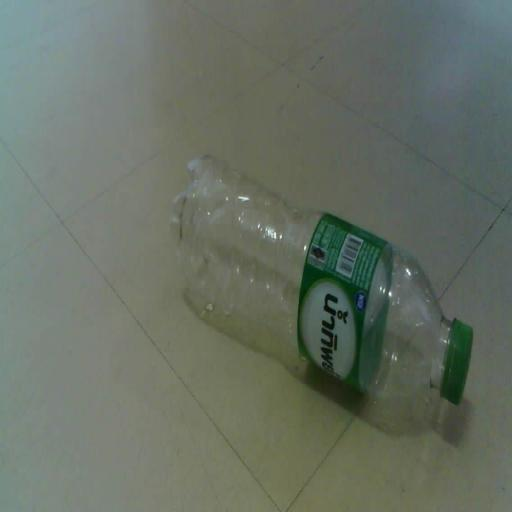bottle: (175, 155, 474, 427)
